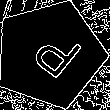P_SW: (18, 23, 82, 86)
